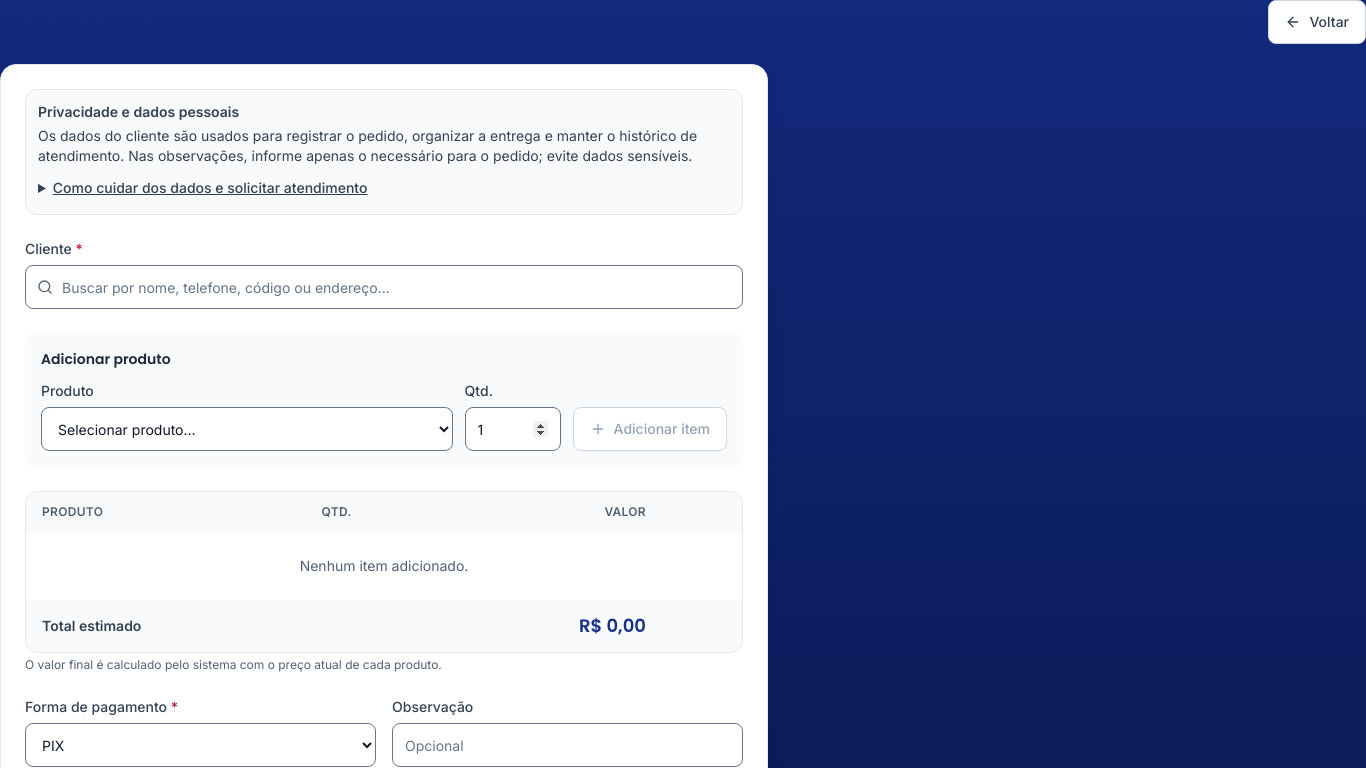
Novo pedido › o produto já adicionado some da lista (não dá para repetir) e o item pode ser removido
In the dropdown with placeholder "Buscar por nome, telefone, código ou endereço…": (384, 287) [25, 265, 743, 309], type "ana"
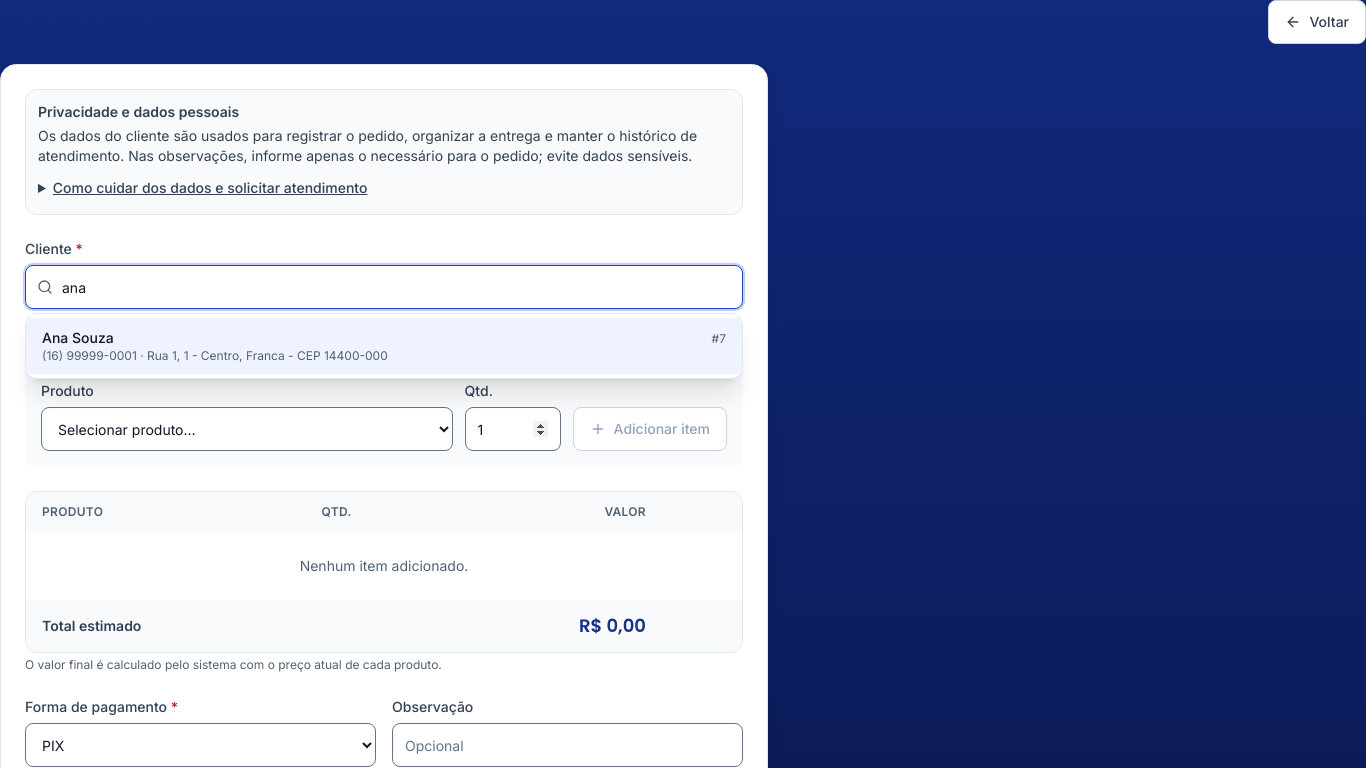
Click the option "Ana Souza": (384, 346) [26, 318, 742, 374]
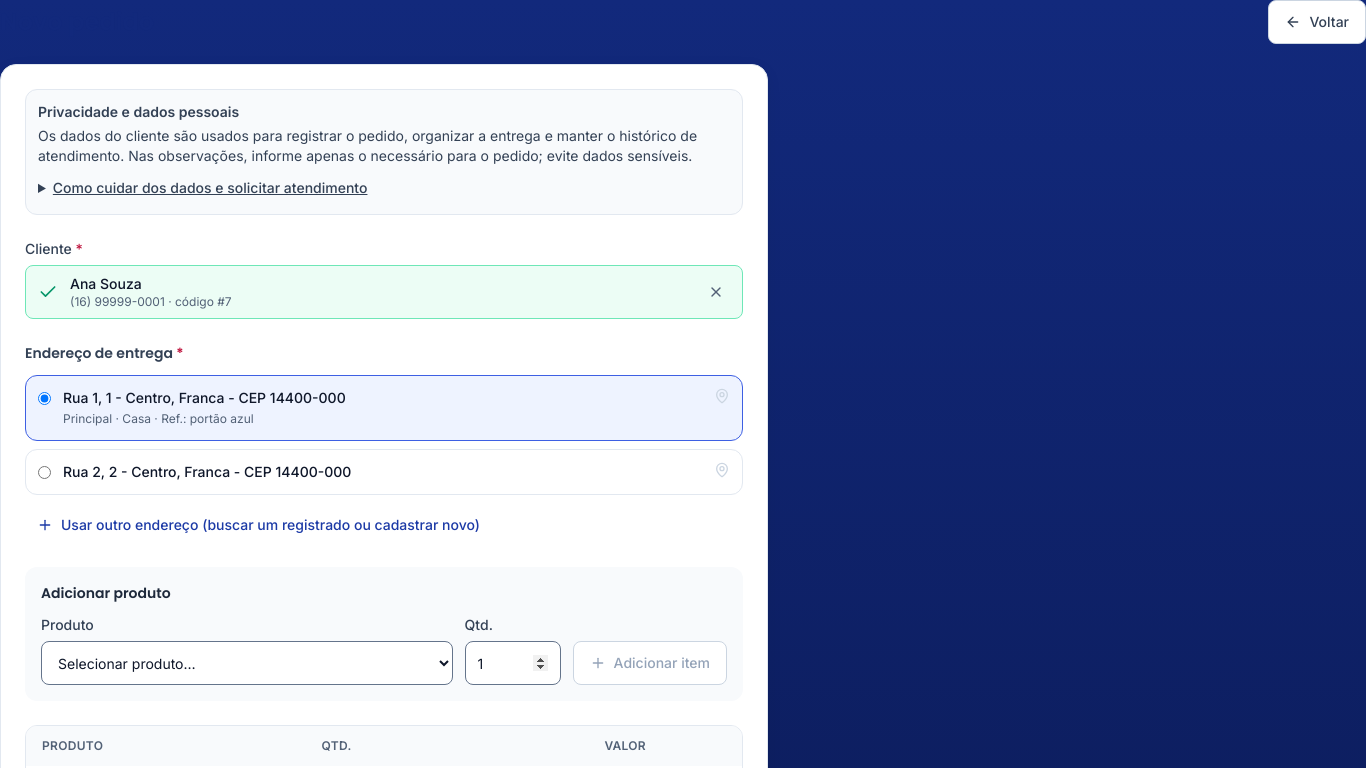
Now the radio button labelled "Rua 1, 1" is shown, box [38, 392, 51, 405]
Select "Saco 50L · R$ 10,00 · estoque 100" in the dropdown labelled "Produto": (247, 663) [41, 641, 453, 685]
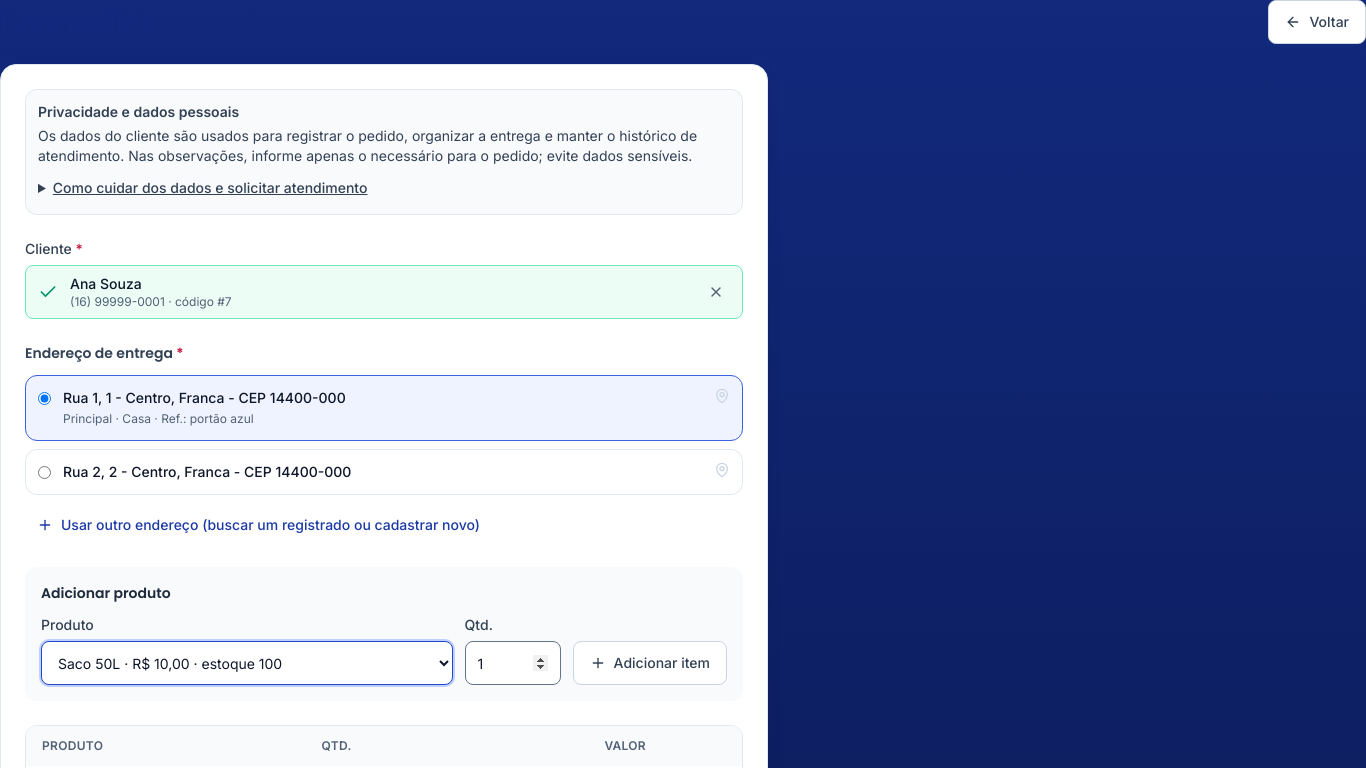
Replace the text in the number field labelled "Qtd." with "2": (513, 663) [465, 641, 561, 685]
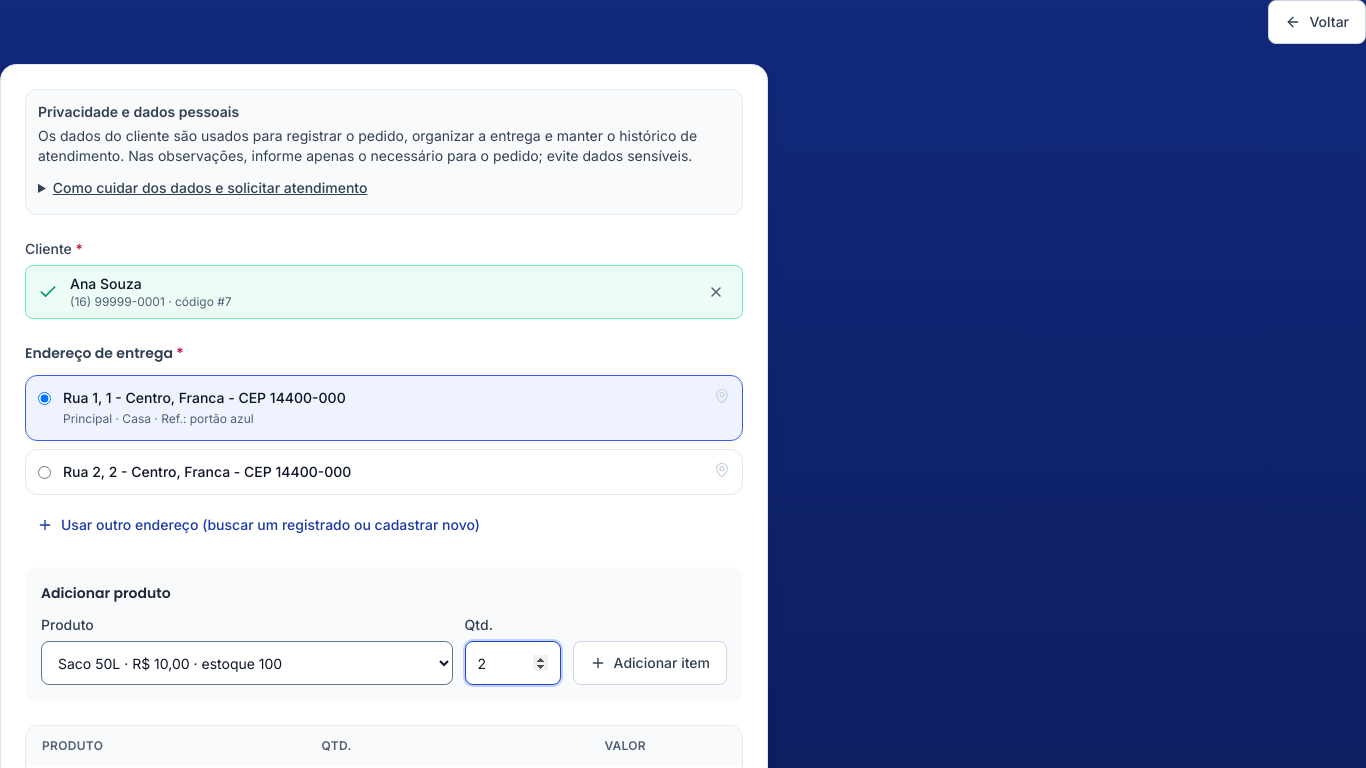
Click the button "Adicionar item": (650, 663) [573, 641, 727, 685]
(page scrolled)
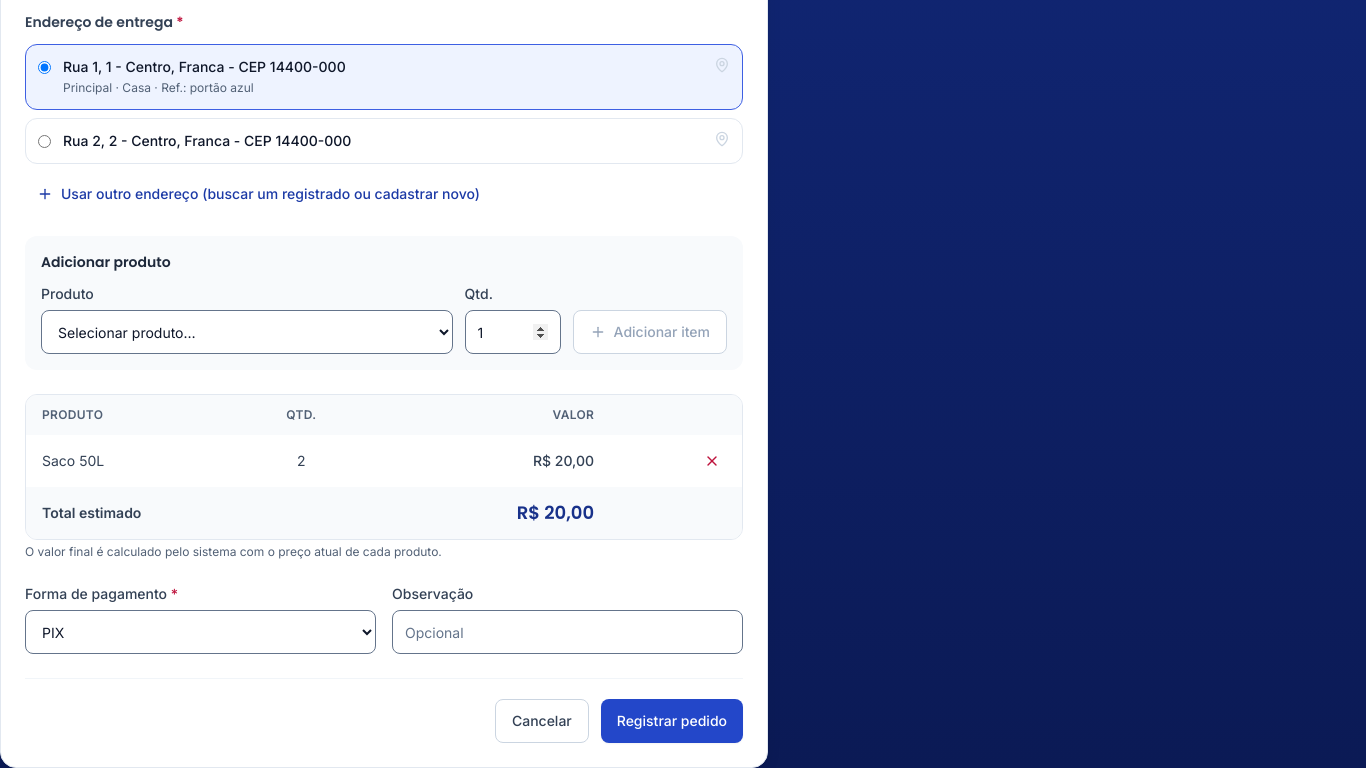
Click the button named "Remover Saco 50L": (712, 461) [698, 447, 726, 475]
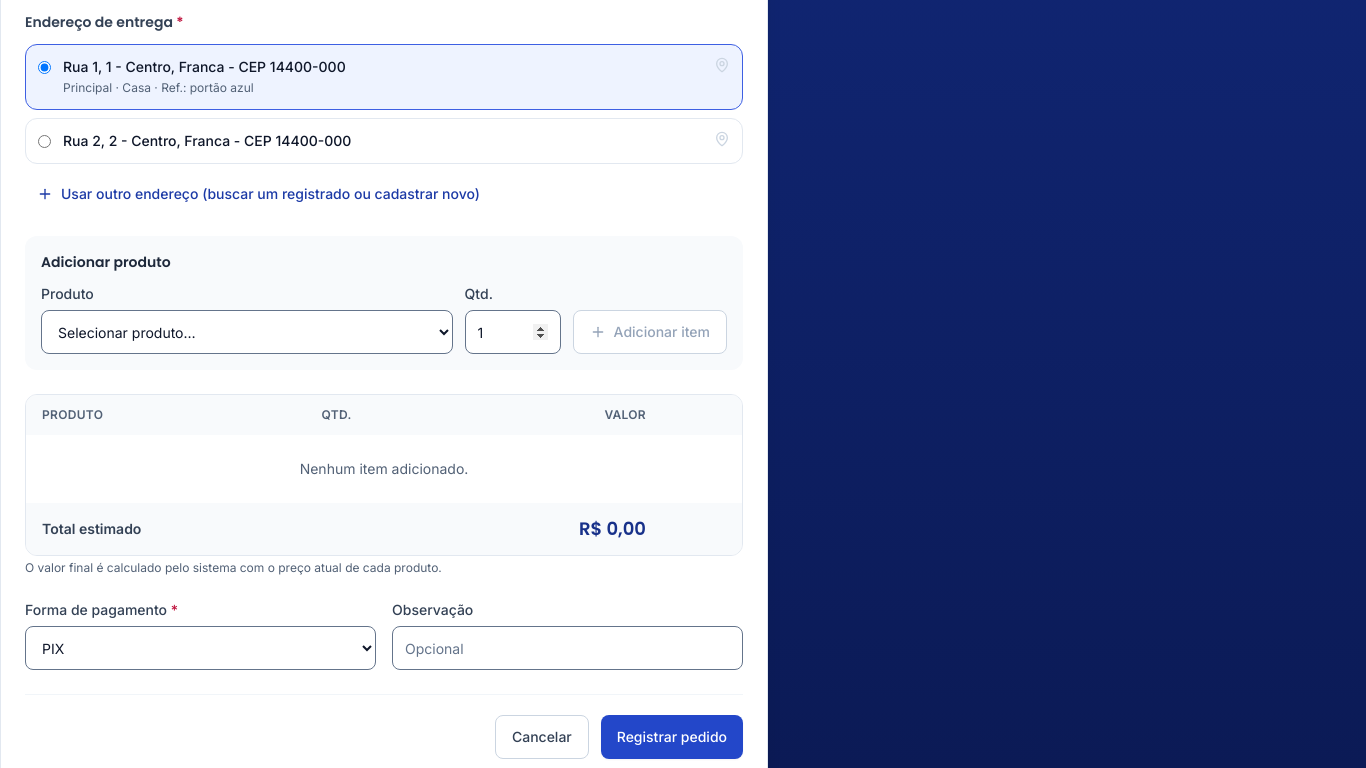
Now the text "Nenhum item adicionado." is shown, box [26, 435, 742, 503]
